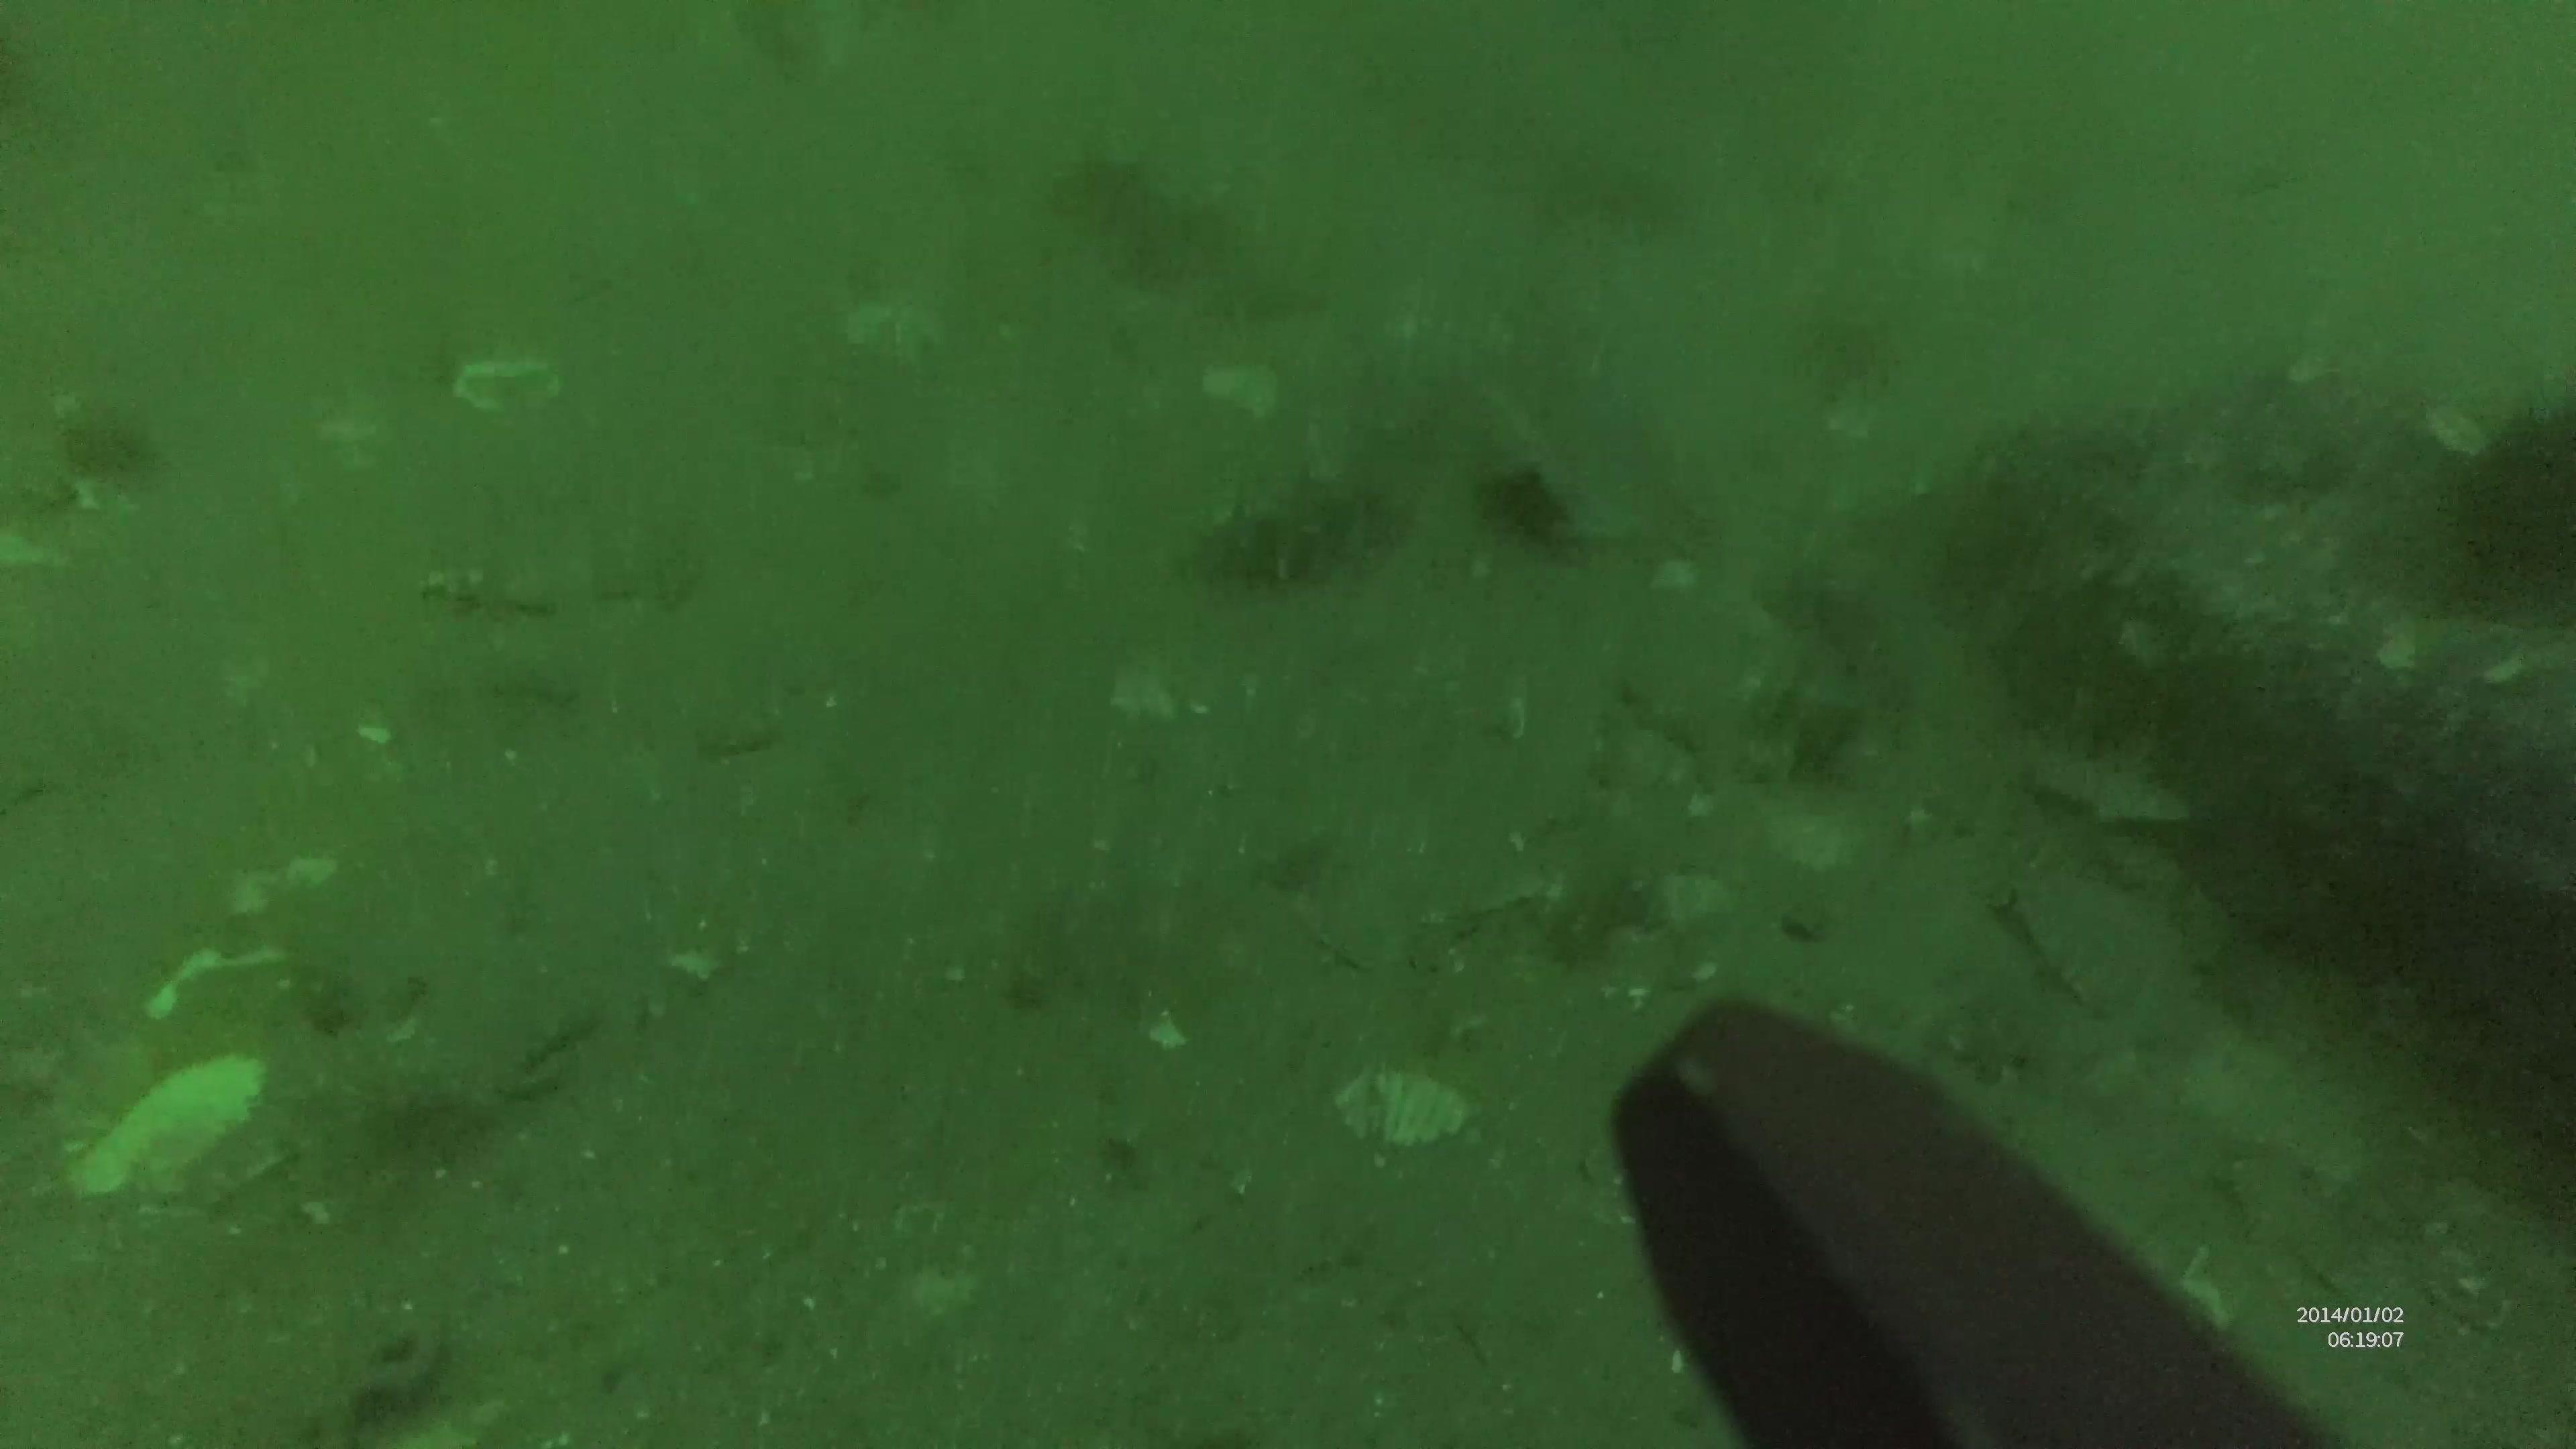echinus: (2420, 380, 2576, 617)
holothurian: (1201, 490, 1424, 593)
